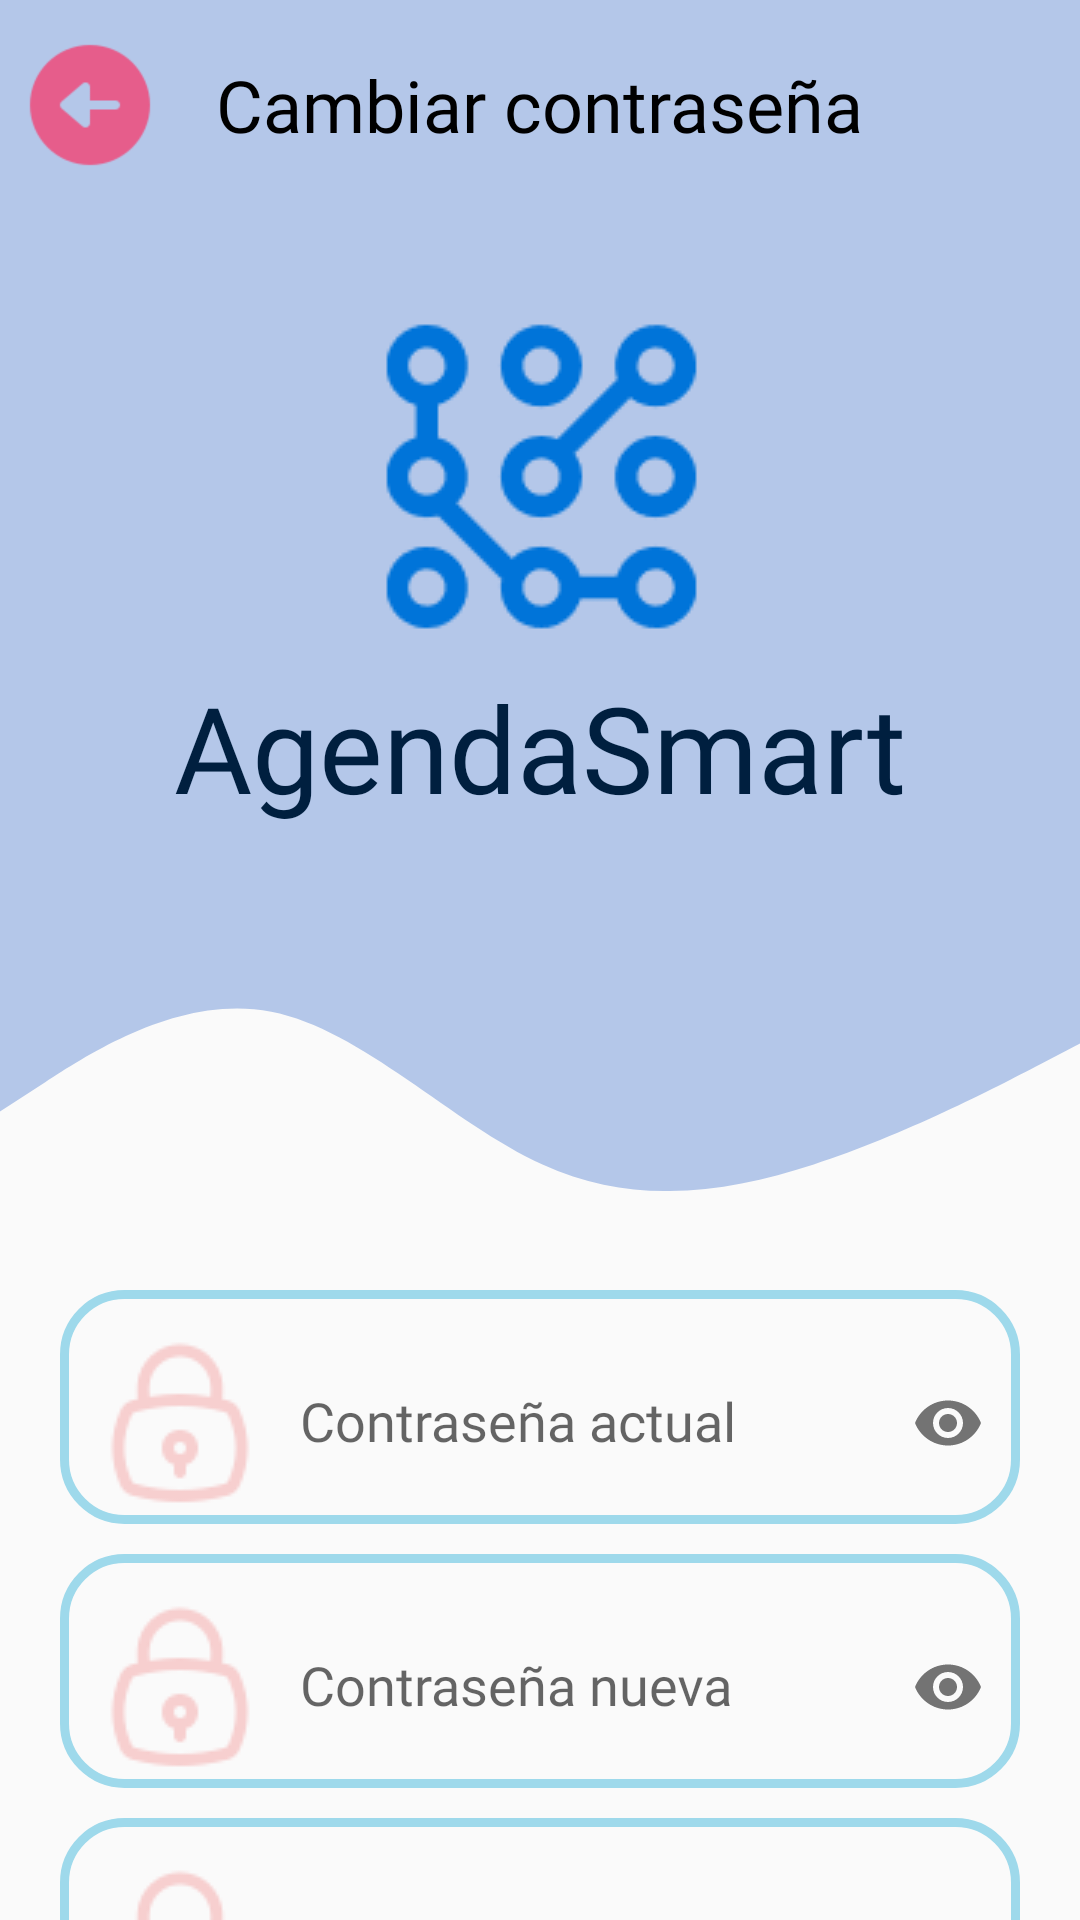

Named icons in this screenshot (1080w x 1920h) and their bounding boxes, (x1, y1, x2, y2):
salir: (30, 45, 150, 165)
